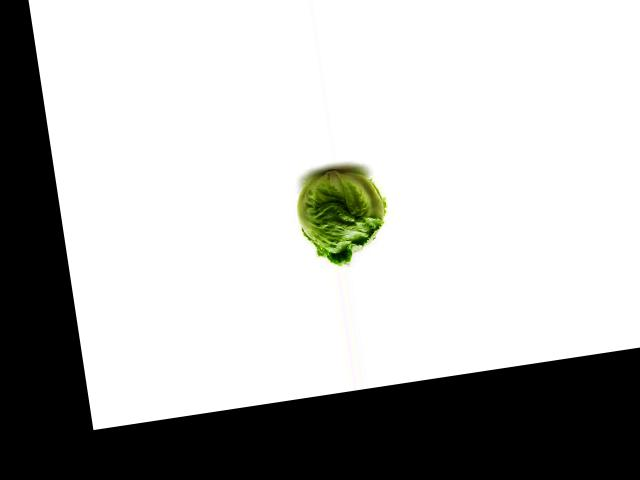lettuce: (288, 158, 401, 271)
